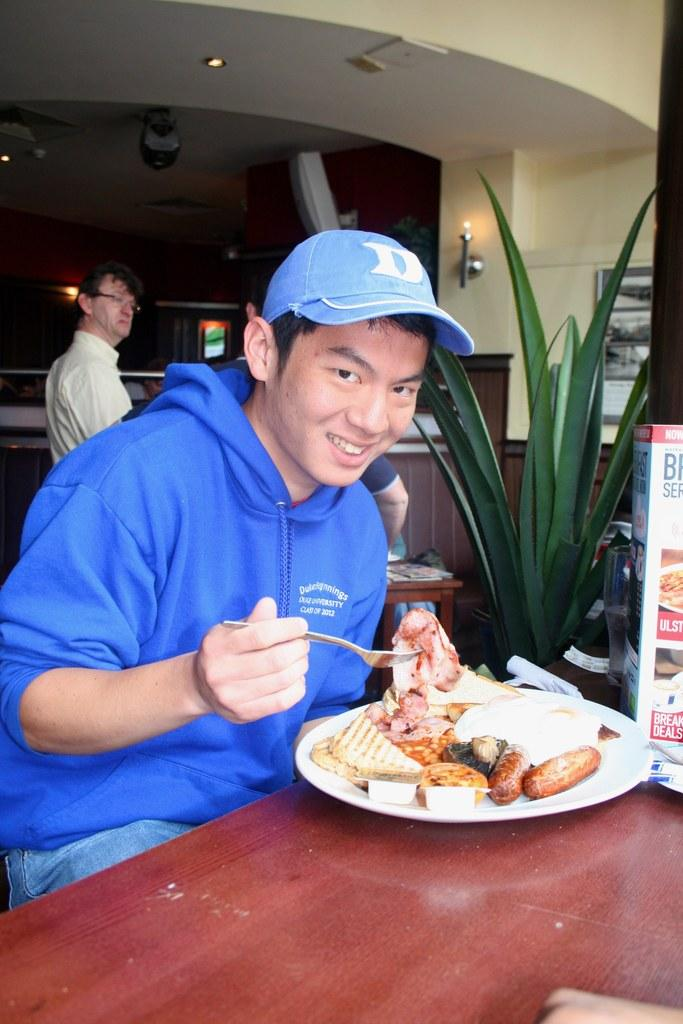Hat: (260, 232, 470, 356)
